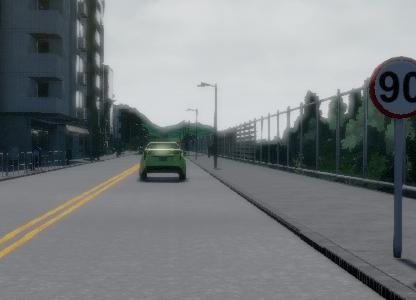Speed_90: (368, 51, 416, 119)
